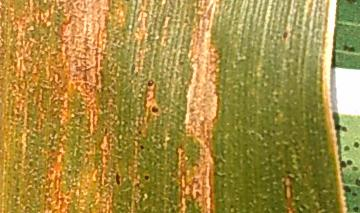tarspot: (111, 170, 125, 186), (142, 76, 157, 89), (150, 103, 161, 116), (140, 172, 151, 184), (136, 143, 148, 152)
